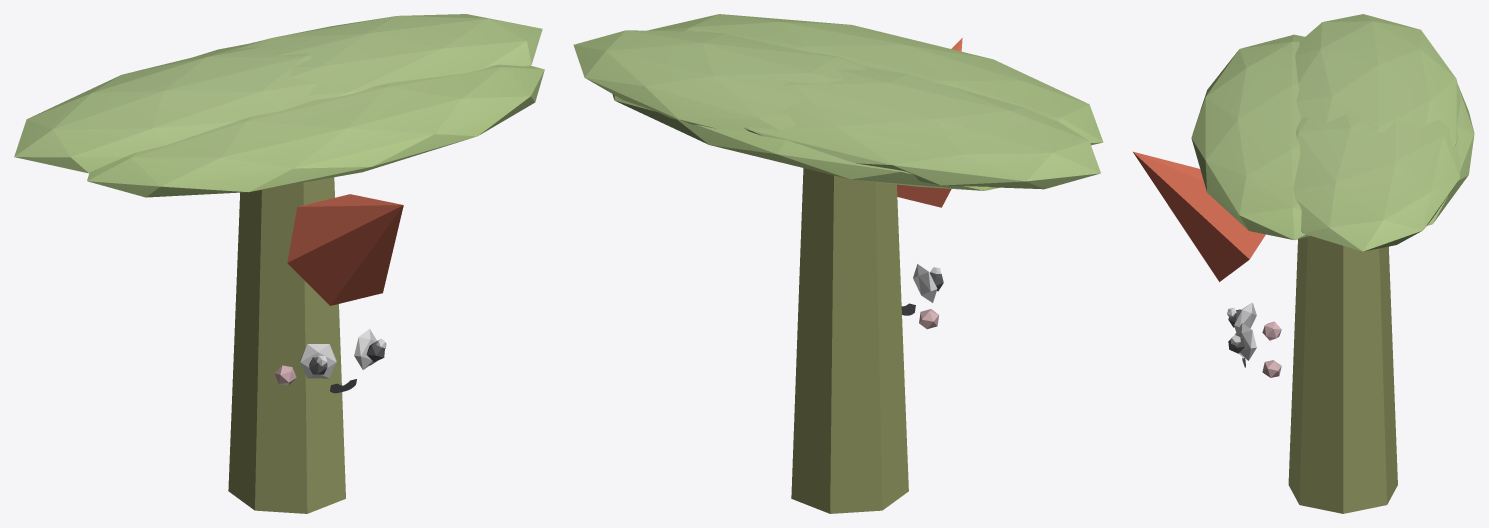
File: heliconia-psittacorum.glb
3 views of the same model, side by side, from view 1: azimuth 30°, elevation 25°; view 2: azimuth 150°, elevation 25°; view 3: azimuth 270°, elevation 25° (orthographic). The views are drawn at different scales.
Parts seen in each view (by area): view 1: pseudostem, leaf1, leaf2, leaf0, bloom, pface-eye-r; view 2: pseudostem, leaf2, leaf0, leaf1, leaf3, bloom; view 3: pseudostem, leaf0, leaf1, leaf2, bloom, leaf3, pface-eye-l.
Boxes of the visible parts, box(x1,y1,x2,y2) form: pseudostem: box(228, 177, 345, 513); leaf1: box(87, 64, 544, 197); leaf2: box(14, 41, 317, 173); leaf0: box(236, 14, 542, 99); bloom: box(287, 194, 403, 305); pface-eye-r: box(300, 344, 336, 378); pseudostem: box(791, 168, 908, 513); leaf2: box(744, 67, 1100, 189); leaf0: box(573, 30, 866, 131); leaf1: box(647, 14, 1103, 145); leaf3: box(612, 94, 999, 190); bloom: box(897, 38, 962, 207); pseudostem: box(1288, 236, 1397, 513); leaf0: box(1293, 114, 1459, 251); leaf1: box(1191, 34, 1309, 240); leaf2: box(1295, 14, 1460, 146); bloom: box(1133, 151, 1265, 281); leaf3: box(1427, 84, 1474, 225); pface-eye-l: box(1235, 323, 1256, 360).
Size of the model in its own units: 0.6 by 0.446 by 0.3656.
